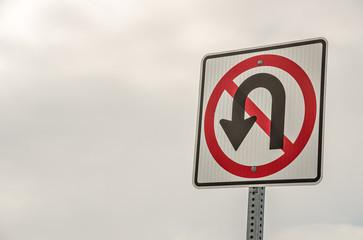no_u_turn: (202, 53, 315, 177)
